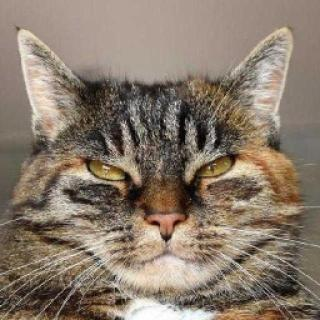cat: (14, 25, 295, 284)
nose: (142, 200, 189, 246)
